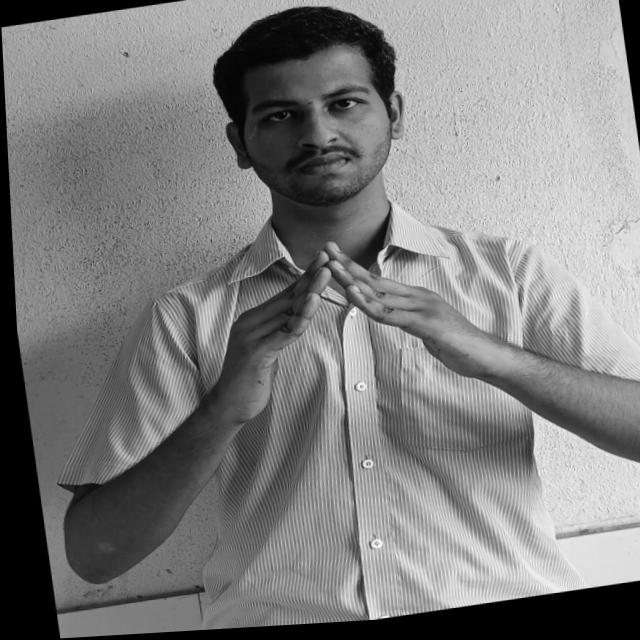Home: (191, 224, 492, 418)
